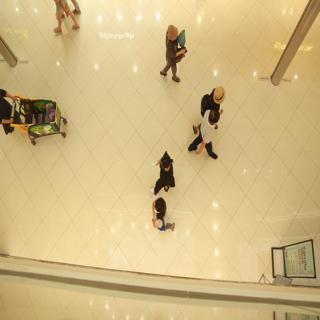person: (158, 21, 185, 92), (142, 199, 183, 243), (193, 104, 220, 170), (154, 148, 189, 187)
